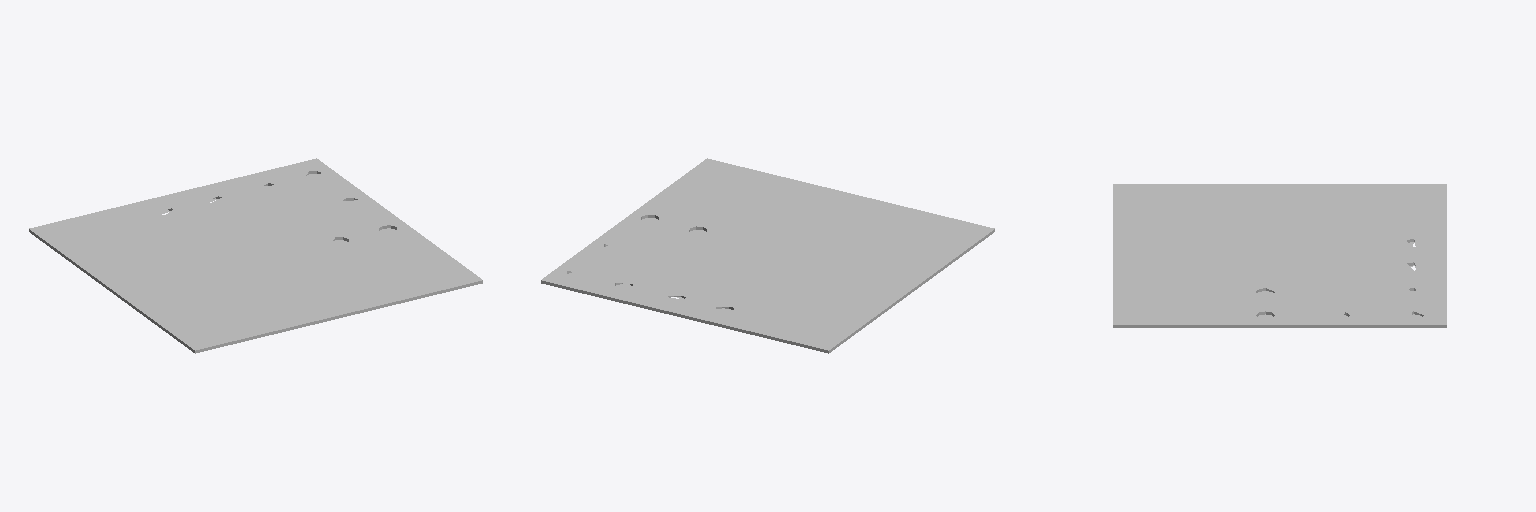
The model's file is PlateWithHoles.obj.
3 views of the same model, side by side, from view 1: azimuth 30°, elevation 25°; view 2: azimuth 150°, elevation 25°; view 3: azimuth 270°, elevation 25° (orthographic).
Visible parts, largest first — view 1: Cube; view 2: Cube; view 3: Cube.
Part boxes in pixels (x1,y1,x2,y2): Cube: (29, 158, 482, 353); Cube: (541, 158, 994, 353); Cube: (1113, 184, 1446, 327).
Bounding box in the file's own units: 10 × 0.1 × 10.